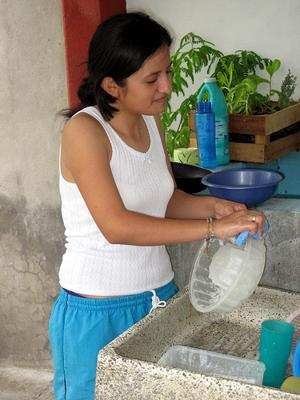person: (47, 7, 263, 400)
